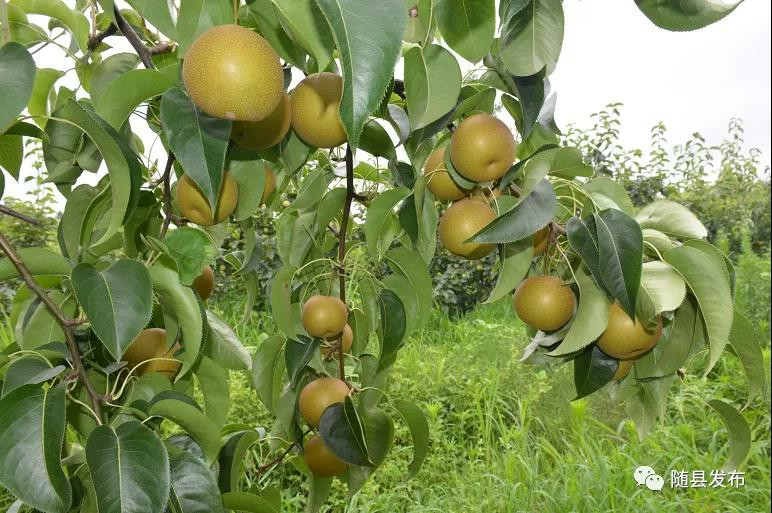pear: (180, 21, 286, 121), (290, 72, 357, 150), (591, 291, 665, 361), (450, 112, 516, 182), (440, 195, 504, 262), (229, 82, 291, 151), (175, 163, 239, 226), (119, 323, 183, 386), (513, 275, 577, 334), (422, 145, 477, 201), (297, 377, 352, 427), (305, 430, 353, 478), (302, 294, 348, 339), (178, 254, 217, 300)
